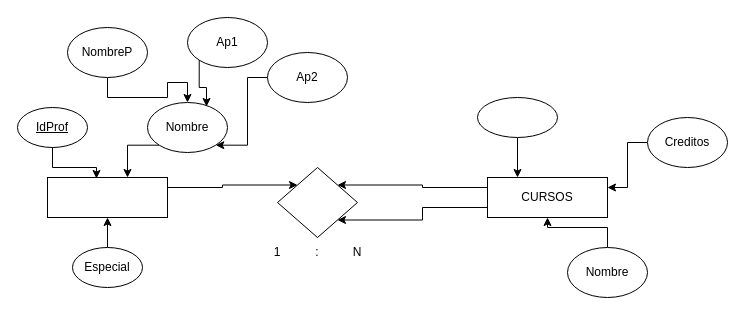
This 745x315 diagram has some shape labels left out. The box of each missing label's shape, as (x1, y1, x2, y2) in pixels:
IdCurso: (476, 96, 558, 138)
IMPARTE: (276, 166, 358, 238)
PROFESOR: (46, 176, 168, 218)
